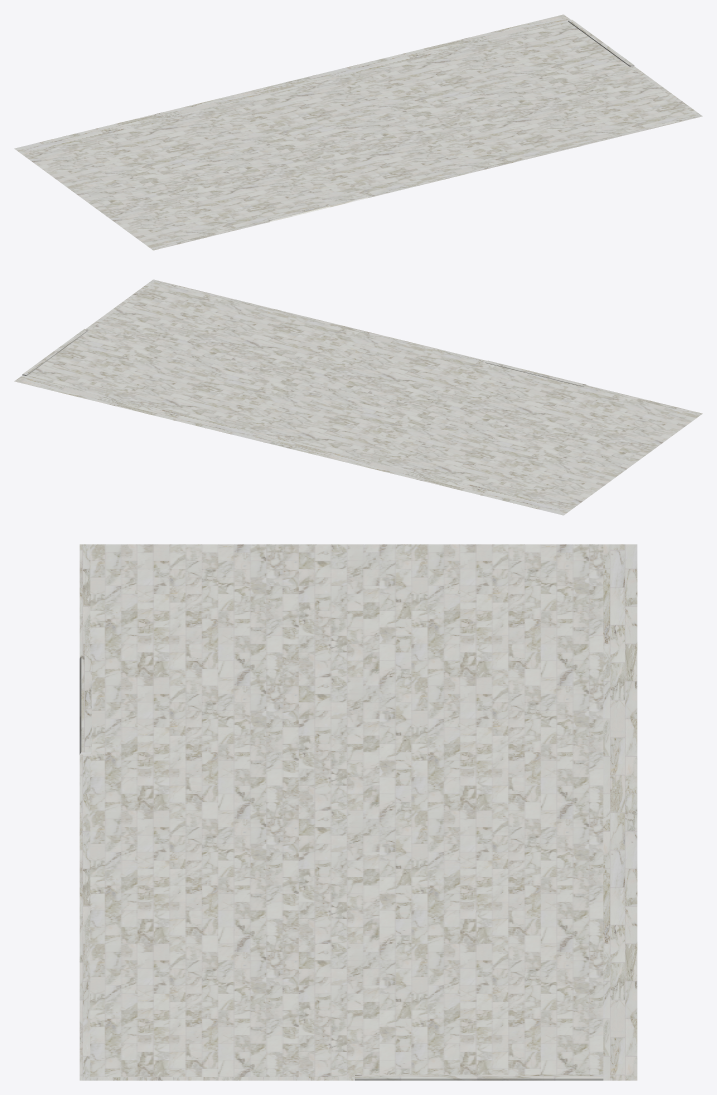
File: Pavimento.dae
3 views of the same model, one above another, from view 1: azimuth 30°, elevation 25°; view 2: azimuth 150°, elevation 25°; view 3: azimuth 270°, elevation 25° (orthographic). The views are drawn at different scales.
Visible parts, largest first — view 1: Plane; view 2: Plane; view 3: Plane.
Boxes of the visible parts, bbox=[...] form: Plane: bbox=[14, 14, 702, 250]; Plane: bbox=[14, 279, 702, 515]; Plane: bbox=[79, 544, 637, 1080].
Bounding box in the file's own units: 24.9 × 10.93 × 0.045.
